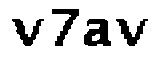7: (48, 6, 81, 53)
a: (82, 16, 114, 49)
v: (8, 14, 45, 50), (115, 15, 148, 48)
